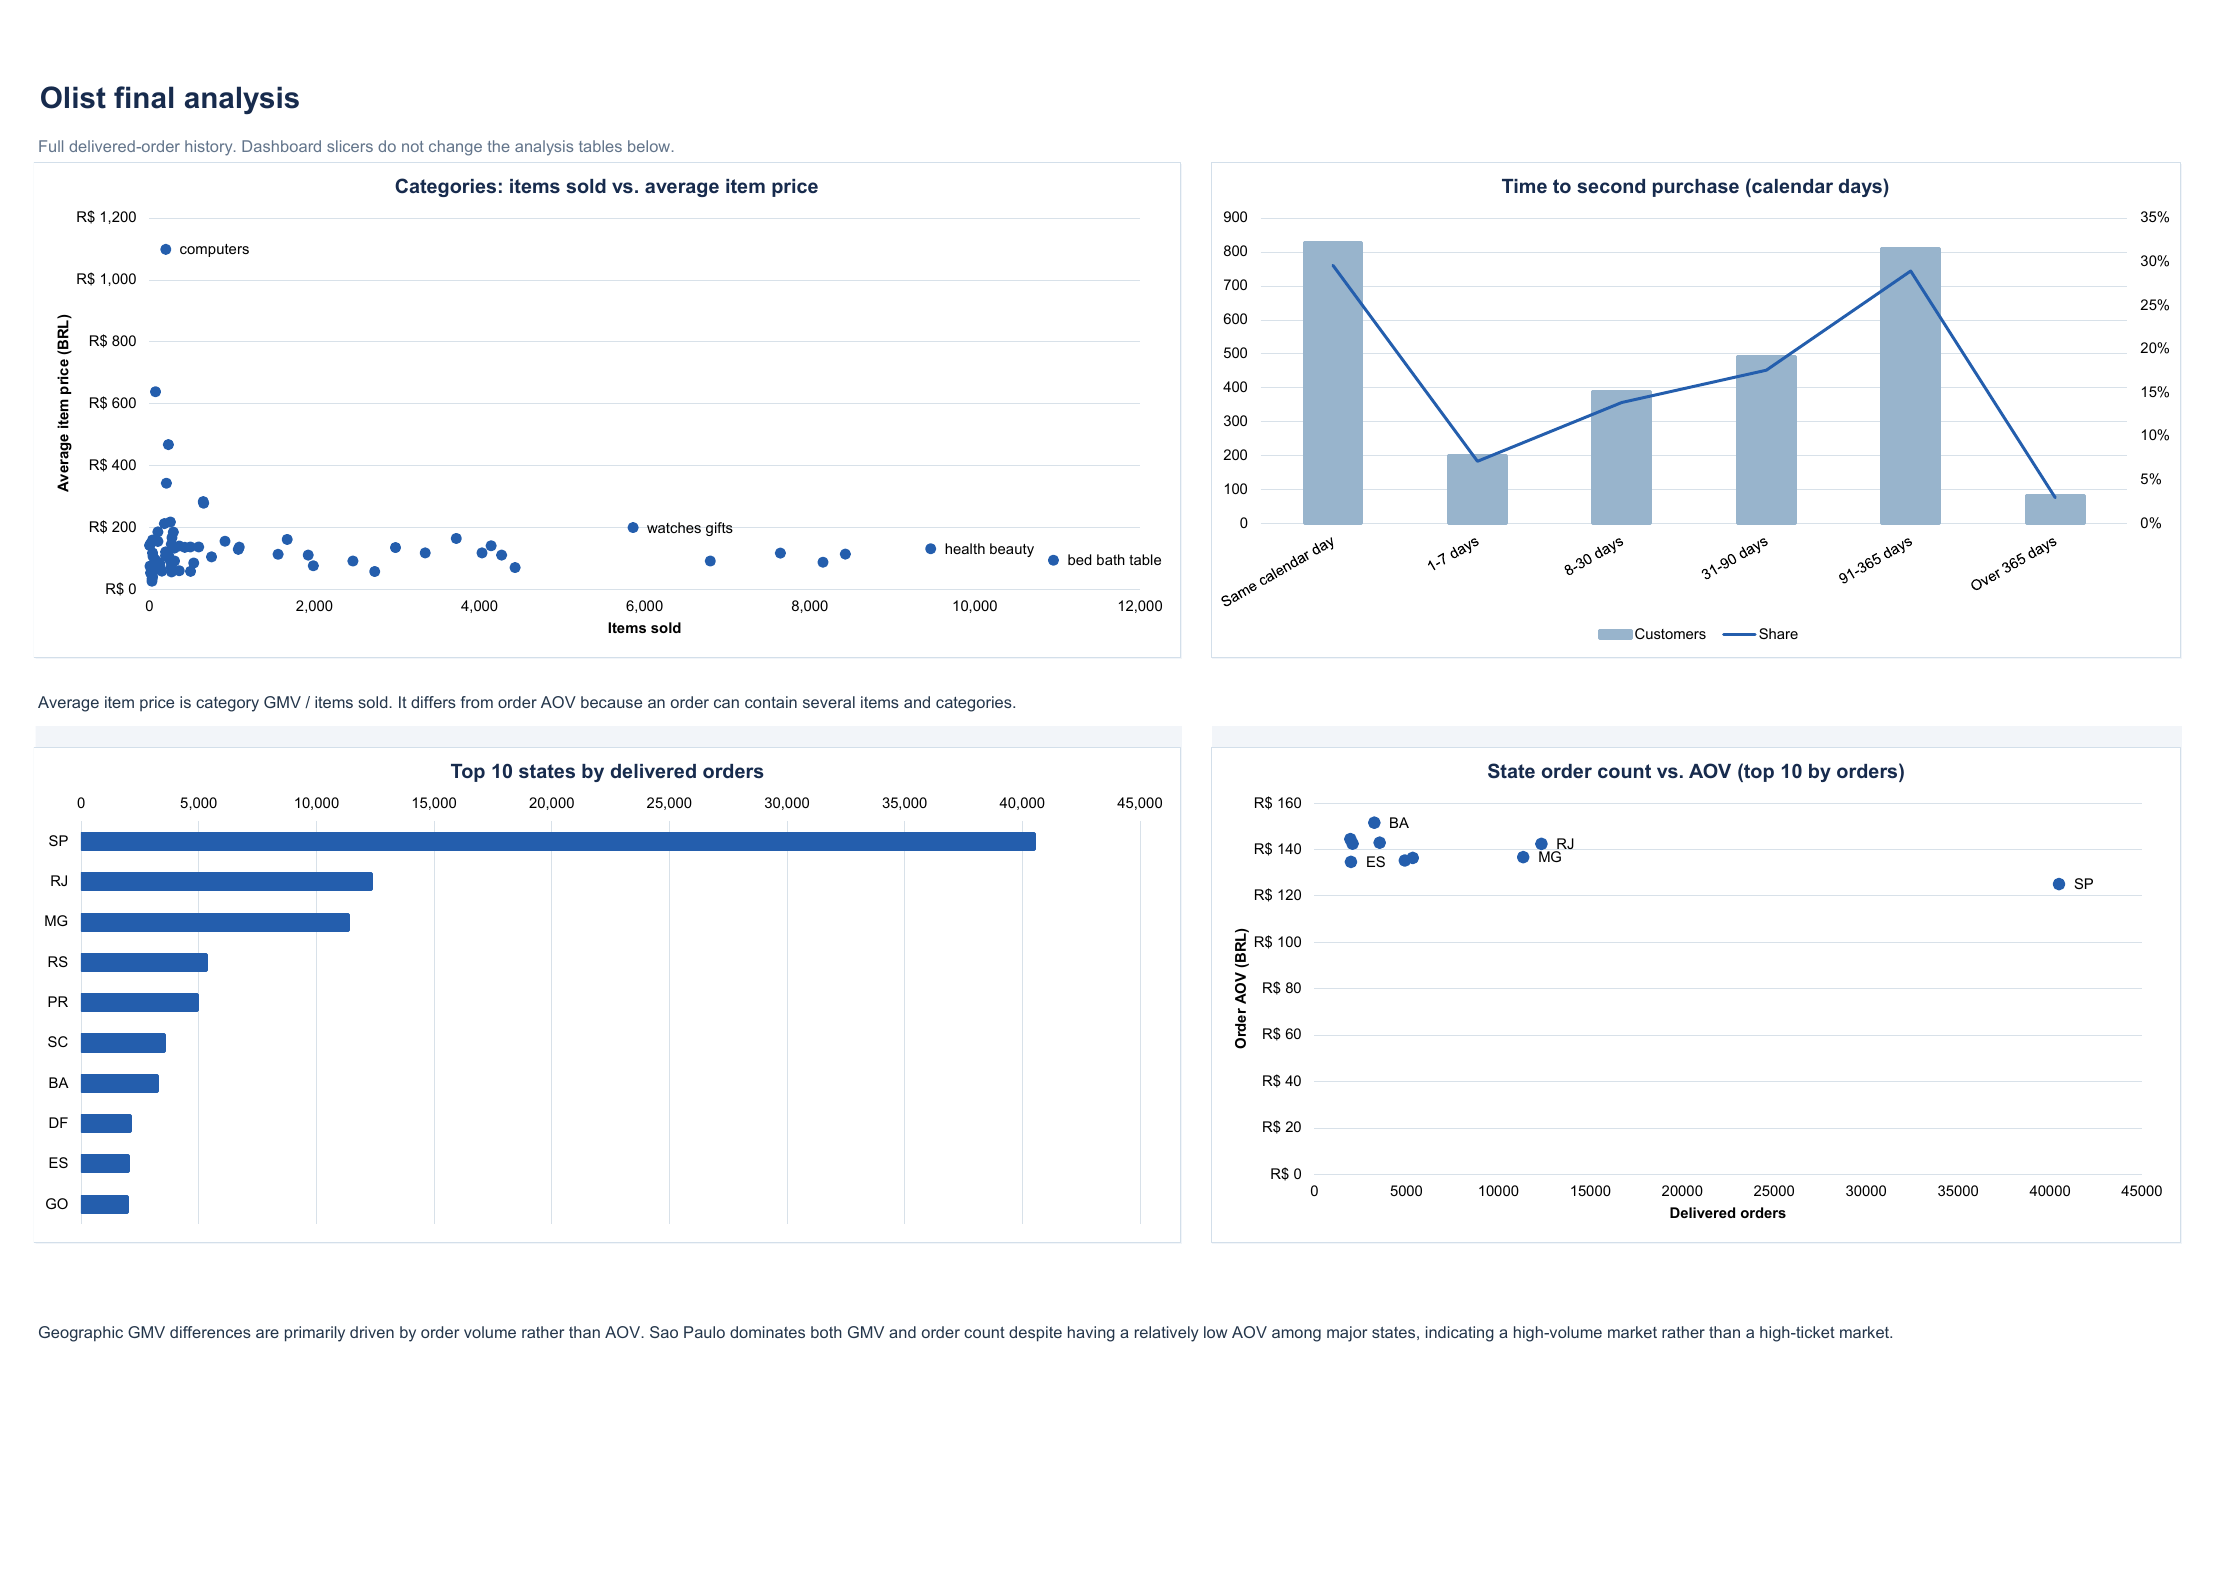

What the dashboard file says about the page in this screenshot:
{"tool":"powerbi","page":{"name":"Customer Behaviour","canvas":[1600,1000],"ordinal":1},"visuals":[{"type":"textbox","box":[28,18,1300,42],"z":0},{"type":"textbox","box":[28,50,1500,70],"z":1000},{"type":"textbox","box":[28,105,1500,43],"z":2000},{"type":"card","title":"Purchasing customers","fields":{"Values":["q2_customer_segments.Purchasing customers"]},"box":[28,153,374,105],"z":3000},{"type":"card","title":"Observed repeat customers","fields":{"Values":["q2_customer_segments.Repeat customers"]},"box":[416,153,374,105],"z":4000},{"type":"card","title":"Spend per repeat customer (BRL)","fields":{"Values":["q2_customer_segments.Repeat customer spend"]},"box":[804,153,374,105],"z":5000},{"type":"card","title":"Sales from highest-spending fifth","fields":{"Values":["q2_quintiles.Top fifth sales share"]},"box":[1192,153,374,105],"z":6000},{"type":"clusteredColumnChart","title":"Repeat customers: people, orders and sales","fields":{"Category":["RepeatContribution.metric"],"Y":["RepeatContribution.Repeat segment share"]},"box":[28,278,764,300],"z":7000},{"type":"clusteredBarChart","title":"Observed spend per customer (BRL)","fields":{"Category":["q2_customer_segments.customer_type"],"Y":["q2_customer_segments.Spend per customer"]},"box":[812,278,760,300],"z":8000},{"type":"lineClusteredColumnComboChart","title":"Sales by spending fifth + cumulative share","fields":{"Category":["q2_quintiles.quintile"],"Y":["q2_quintiles.Sales share"],"Y2":["q2_quintiles.Cumulative share"]},"box":[28,598,764,326],"z":9000},{"type":"clusteredBarChart","title":"First repeat purchase · share of repeat customers","fields":{"Category":["q2_repurchase.interval_bucket"],"Y":["q2_repurchase.Repeat customer share"]},"box":[812,598,760,326],"z":10000},{"type":"textbox","box":[28,943,1544,42],"z":11000}]}

Visuals, with their boxes on the page's 1600x1000 design canvas (x1, y1, x2, y2). These are canvas units, not pixel positions in the 2233x1579 screenshot, which may show the page scaled, cropped or inside an application window:
textbox: [28,18,1328,60]
textbox: [28,50,1528,120]
textbox: [28,105,1528,148]
"Purchasing customers" card: [28,153,402,258]
"Observed repeat customers" card: [416,153,790,258]
"Spend per repeat customer (BRL)" card: [804,153,1178,258]
"Sales from highest-spending fifth" card: [1192,153,1566,258]
"Repeat customers: people, orders and sales" clusteredColumnChart: [28,278,792,578]
"Observed spend per customer (BRL)" clusteredBarChart: [812,278,1572,578]
"Sales by spending fifth + cumulative share" lineClusteredColumnComboChart: [28,598,792,924]
"First repeat purchase · share of repeat customers" clusteredBarChart: [812,598,1572,924]
textbox: [28,943,1572,985]
